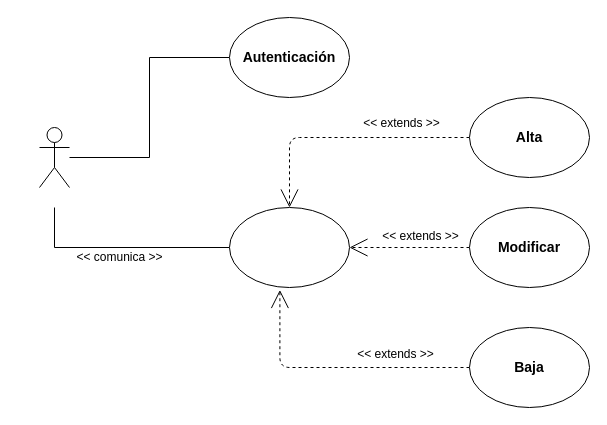
Image size: 607x425. Some labels were removed from this diagram. Here are the shapes that lost their labels. From the top down, the box of each, then its label:
(38, 126, 70, 188): Administrador
(228, 206, 350, 288): Administrar Tablas
